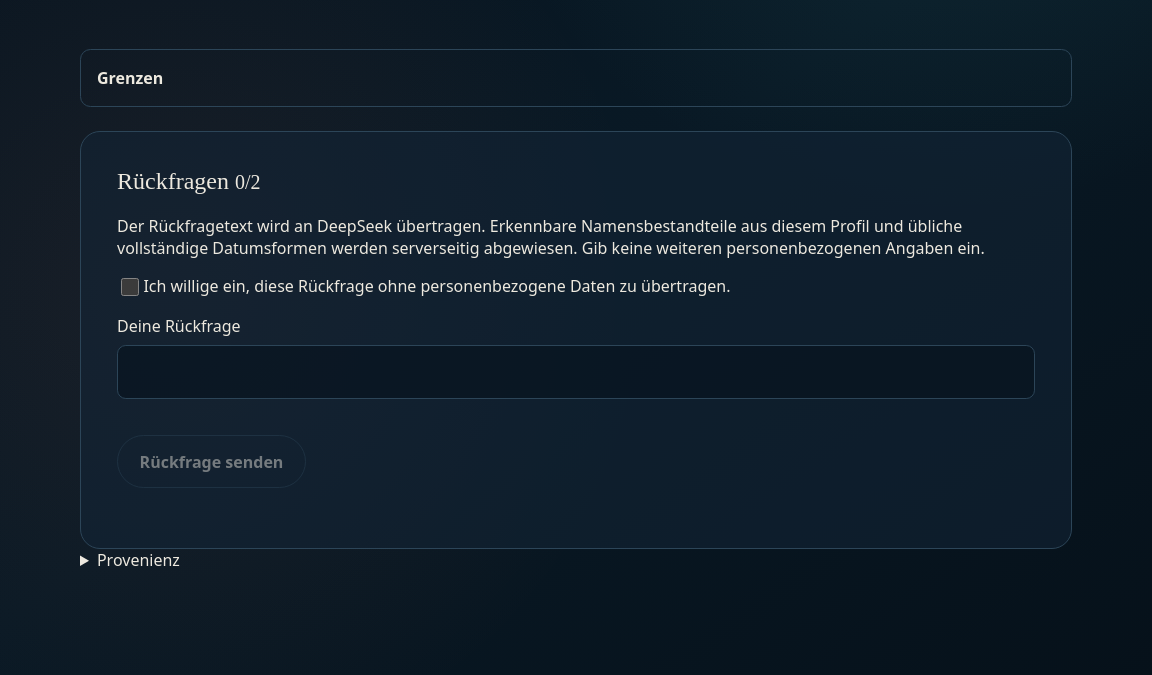
ReportExperience › requires fresh consent before a follow-up to a loaded local report
(page scrolled)
Type "Was passt dazu?" into the field labelled "Deine Rückfrage".
click(576, 372); type("Was passt dazu?")  # box [117,345,1035,400]
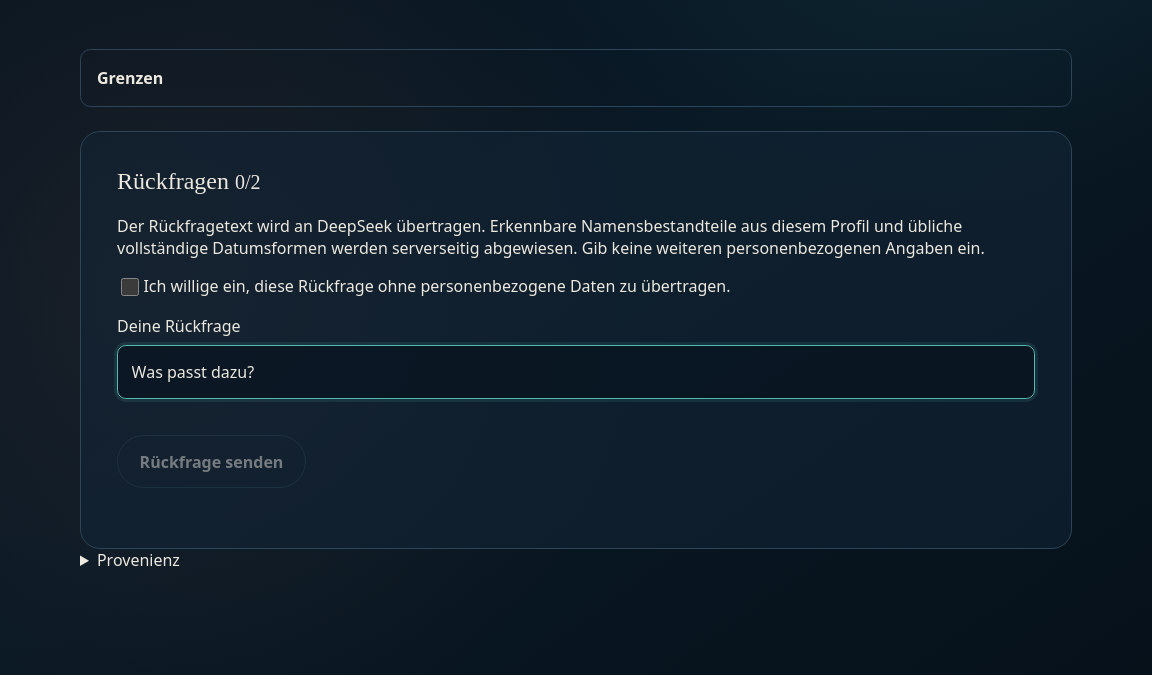
Expected: the button "Rückfrage senden" is disabled, [117,436,306,488]
Click the checkbox.
click(130, 287)  # box [121,278,139,296]
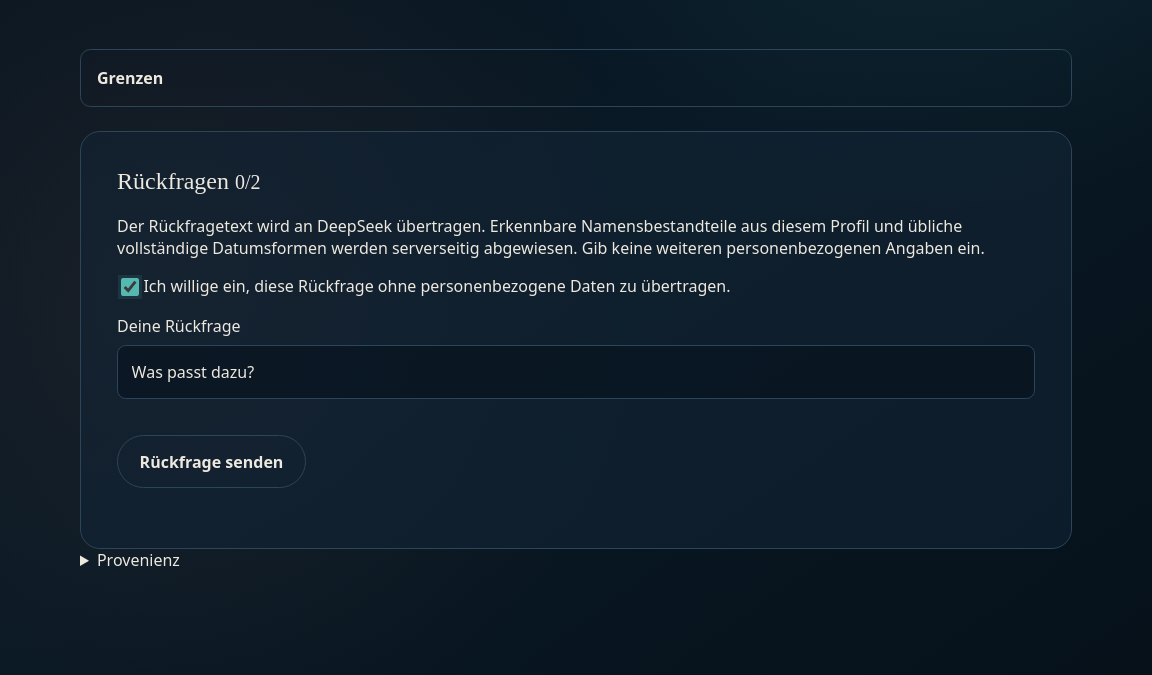
Result: the button "Rückfrage senden" is enabled at [117,436,306,488]
